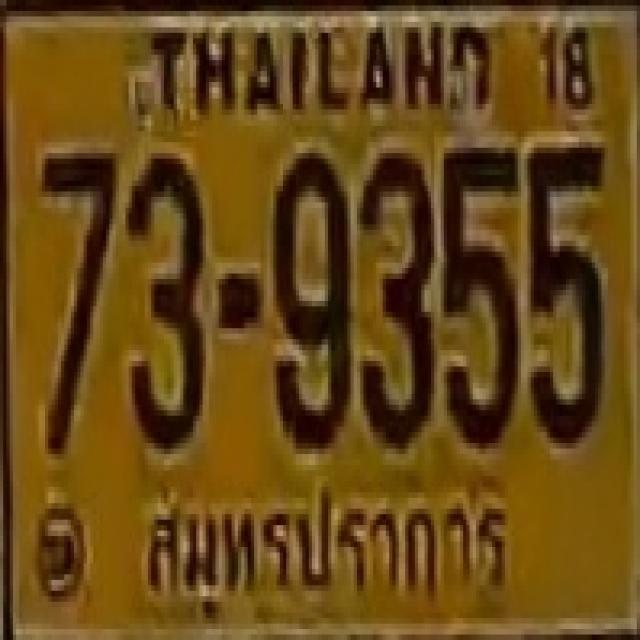3: (358, 148, 432, 443), (126, 148, 200, 443)
5: (526, 142, 603, 438), (440, 142, 514, 443)
7: (37, 148, 114, 448)
9: (270, 148, 347, 443)
SPK: (138, 470, 530, 621)
